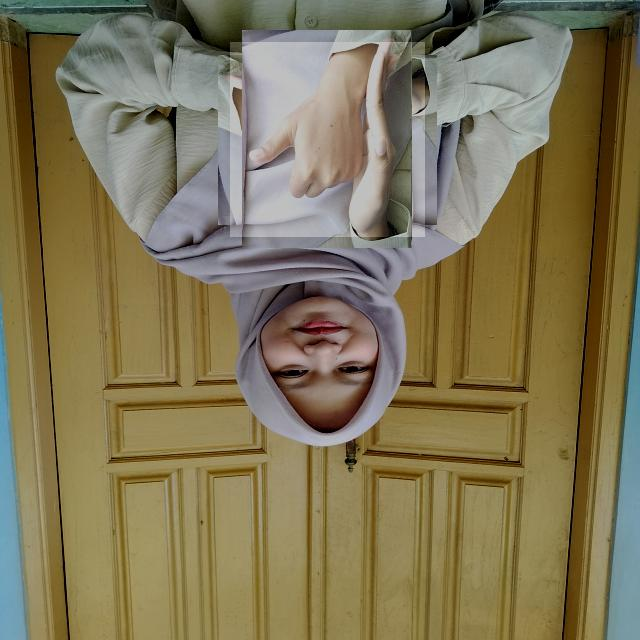cantik: (230, 42, 425, 237)
